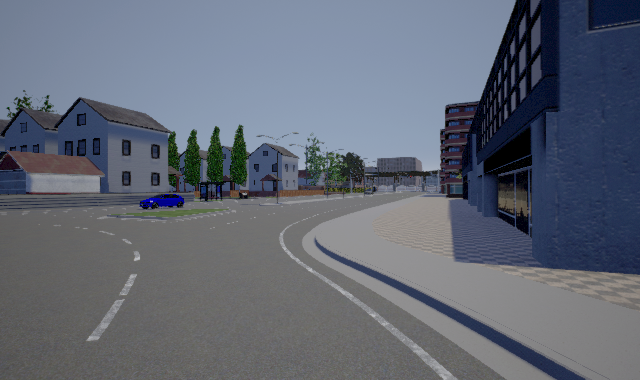vehicle: (139, 194, 185, 209)
